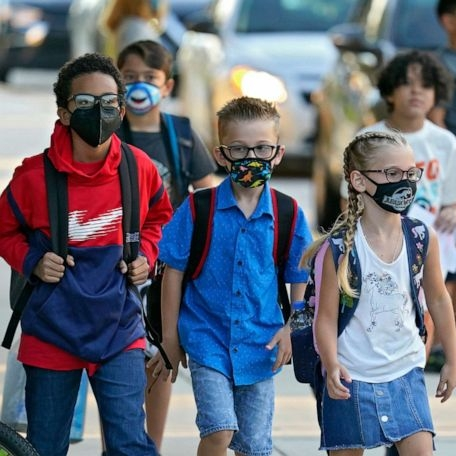human: (1, 52, 172, 456), (148, 96, 313, 456), (309, 129, 456, 456), (349, 52, 456, 269), (117, 40, 215, 203)
mask: (342, 129, 422, 220), (55, 52, 124, 149), (215, 98, 285, 190), (116, 38, 175, 122)
no_mask: (378, 48, 445, 123)
